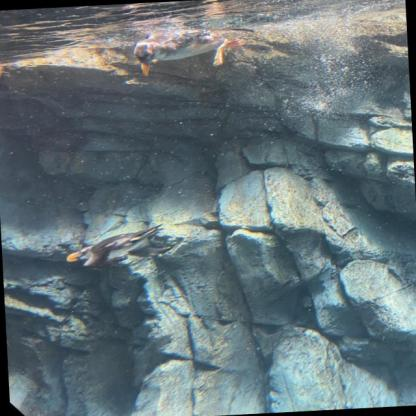puffin: (133, 26, 245, 78), (65, 222, 176, 271)
